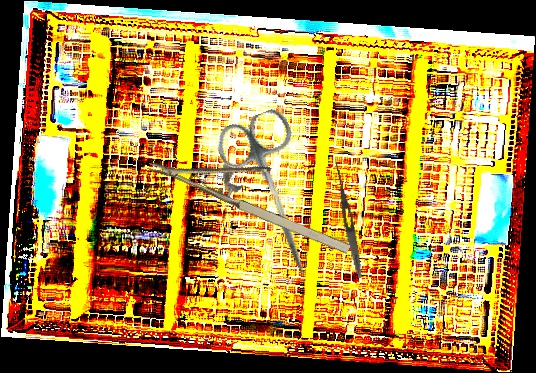Dressing Forceps: (330, 161, 366, 279)
Iris Scissors: (211, 105, 341, 288)
Needle Holder: (146, 120, 367, 261)
